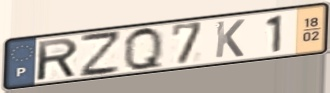1: (264, 13, 287, 54)
7: (170, 21, 206, 67)
K: (213, 18, 247, 60)
Q: (121, 25, 166, 73)
R: (36, 36, 81, 82)
Z: (78, 30, 123, 79)
